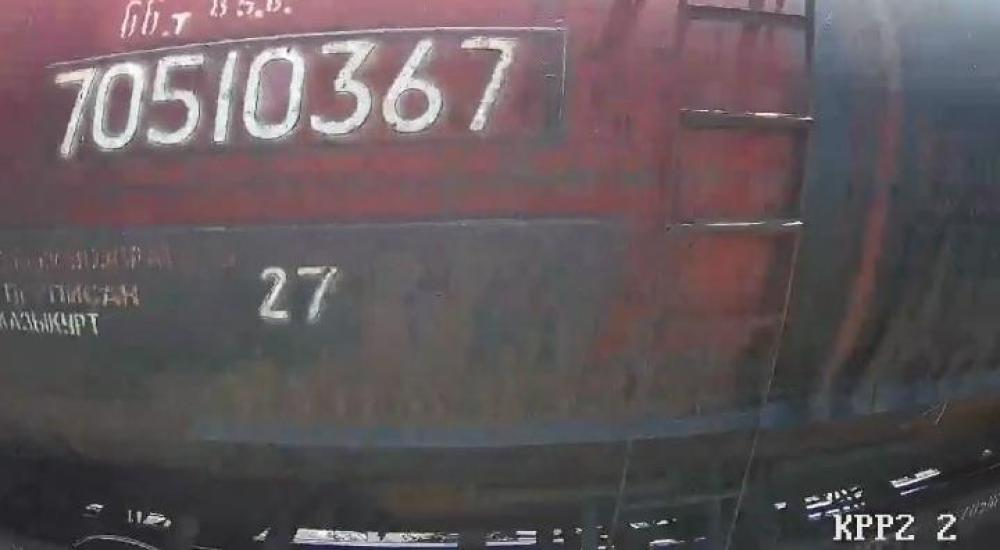Wagon-number: (50, 30, 524, 166)
